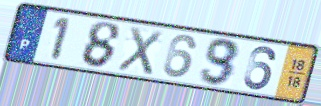1: (51, 17, 73, 62)
6: (162, 33, 199, 80), (242, 45, 277, 92)
8: (81, 20, 122, 69)
9: (198, 37, 243, 88)
X: (114, 24, 165, 77)
